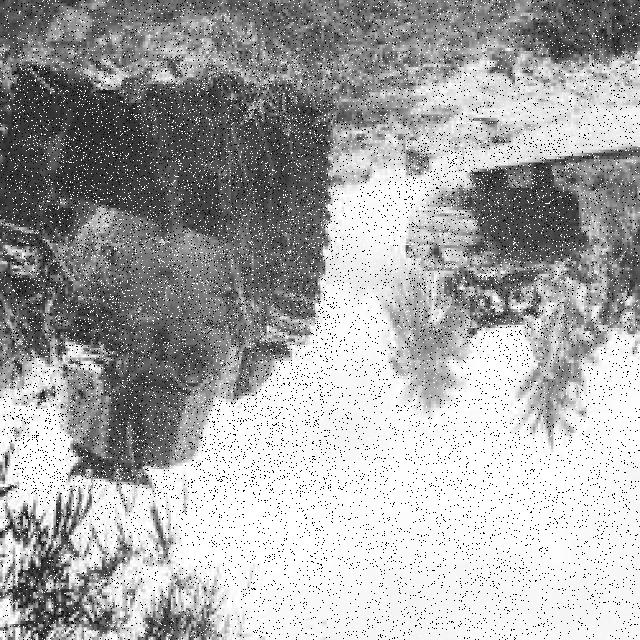MIL_MBT: (12, 55, 334, 494), (406, 137, 573, 340)
